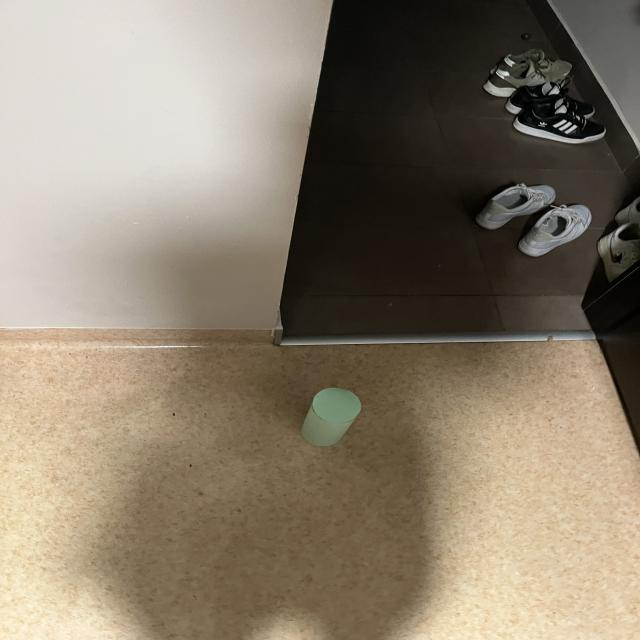meta: (301, 388, 361, 446)
